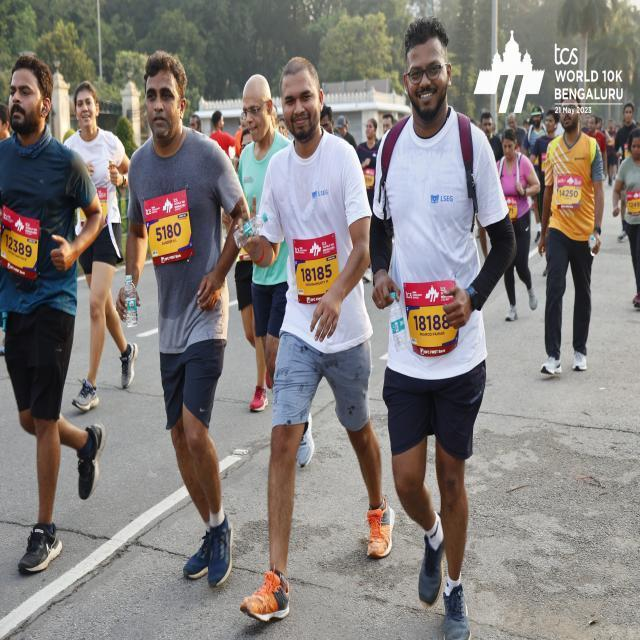dorsal: (404, 280, 460, 357), (142, 199, 197, 261), (1, 201, 39, 278), (292, 236, 338, 298)
